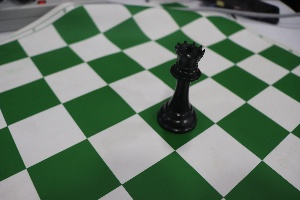black_queen: (154, 26, 203, 138)
